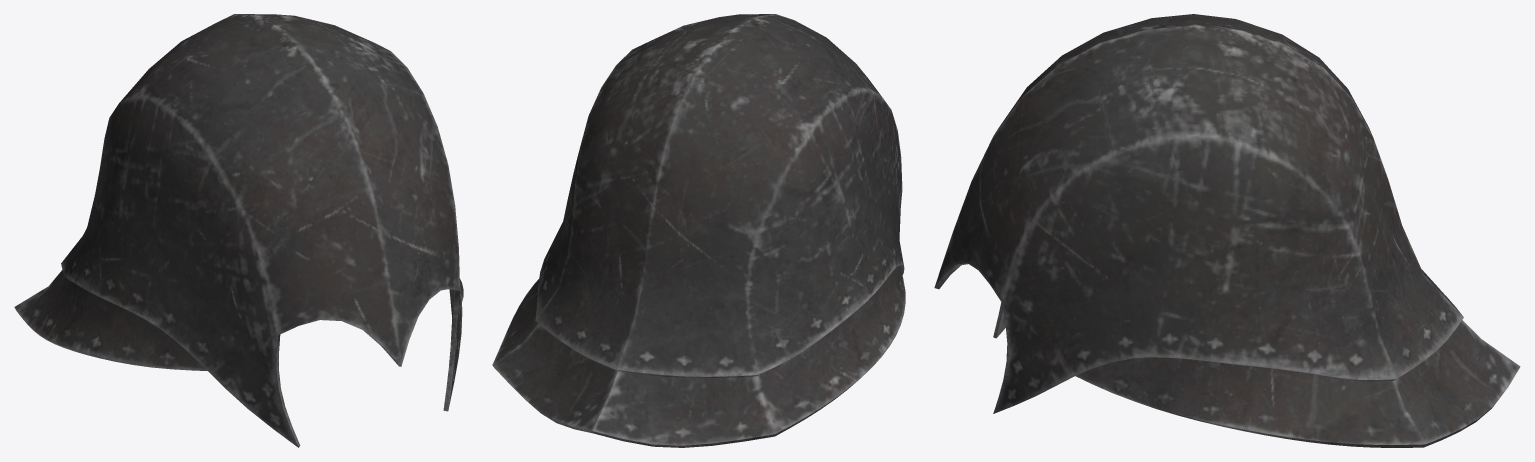
File: sk_uruk_mordor_helmet_medium_c1.fbx
The picture shows the model from 3 angles, left to right: view 1: azimuth 30°, elevation 25°; view 2: azimuth 150°, elevation 25°; view 3: azimuth 270°, elevation 25°; orthographic projection. The views are drawn at different scales.
Parts seen in each view (by area): view 1: sk_uruk_mordor_helmet_medium_c1; view 2: sk_uruk_mordor_helmet_medium_c1; view 3: sk_uruk_mordor_helmet_medium_c1.
Part boxes in pixels (box(x1,y1,x2,y2)): sk_uruk_mordor_helmet_medium_c1: box(14, 14, 463, 447); sk_uruk_mordor_helmet_medium_c1: box(492, 14, 905, 447); sk_uruk_mordor_helmet_medium_c1: box(934, 14, 1520, 447).
Size of the model in its own units: 0.2629 by 0.3443 by 0.2312.
Materials: 1 (1 with a texture image).
